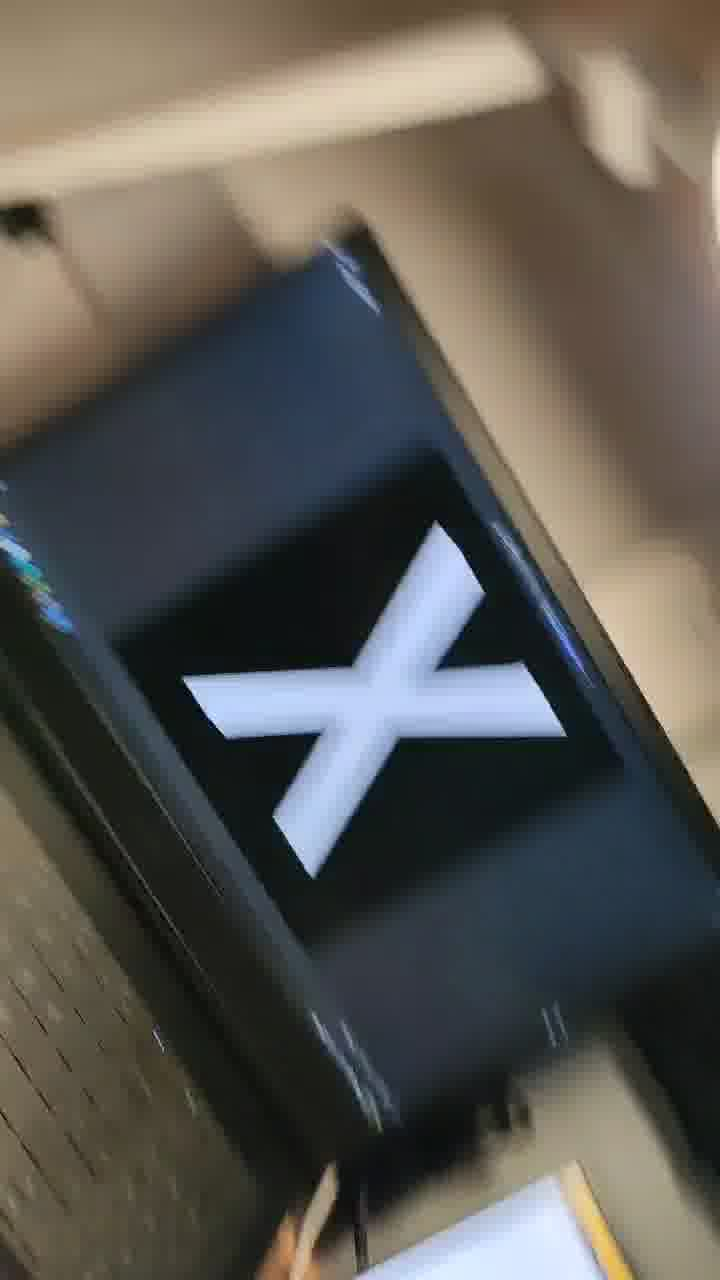X: (204, 412, 587, 897)
